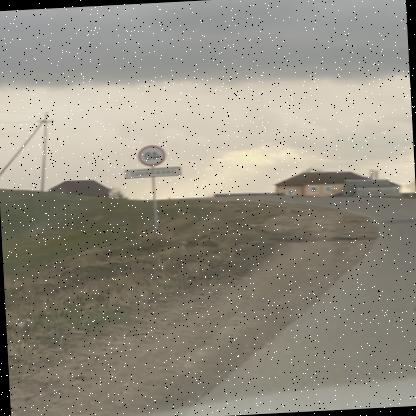speedlimit: (139, 142, 169, 166)
